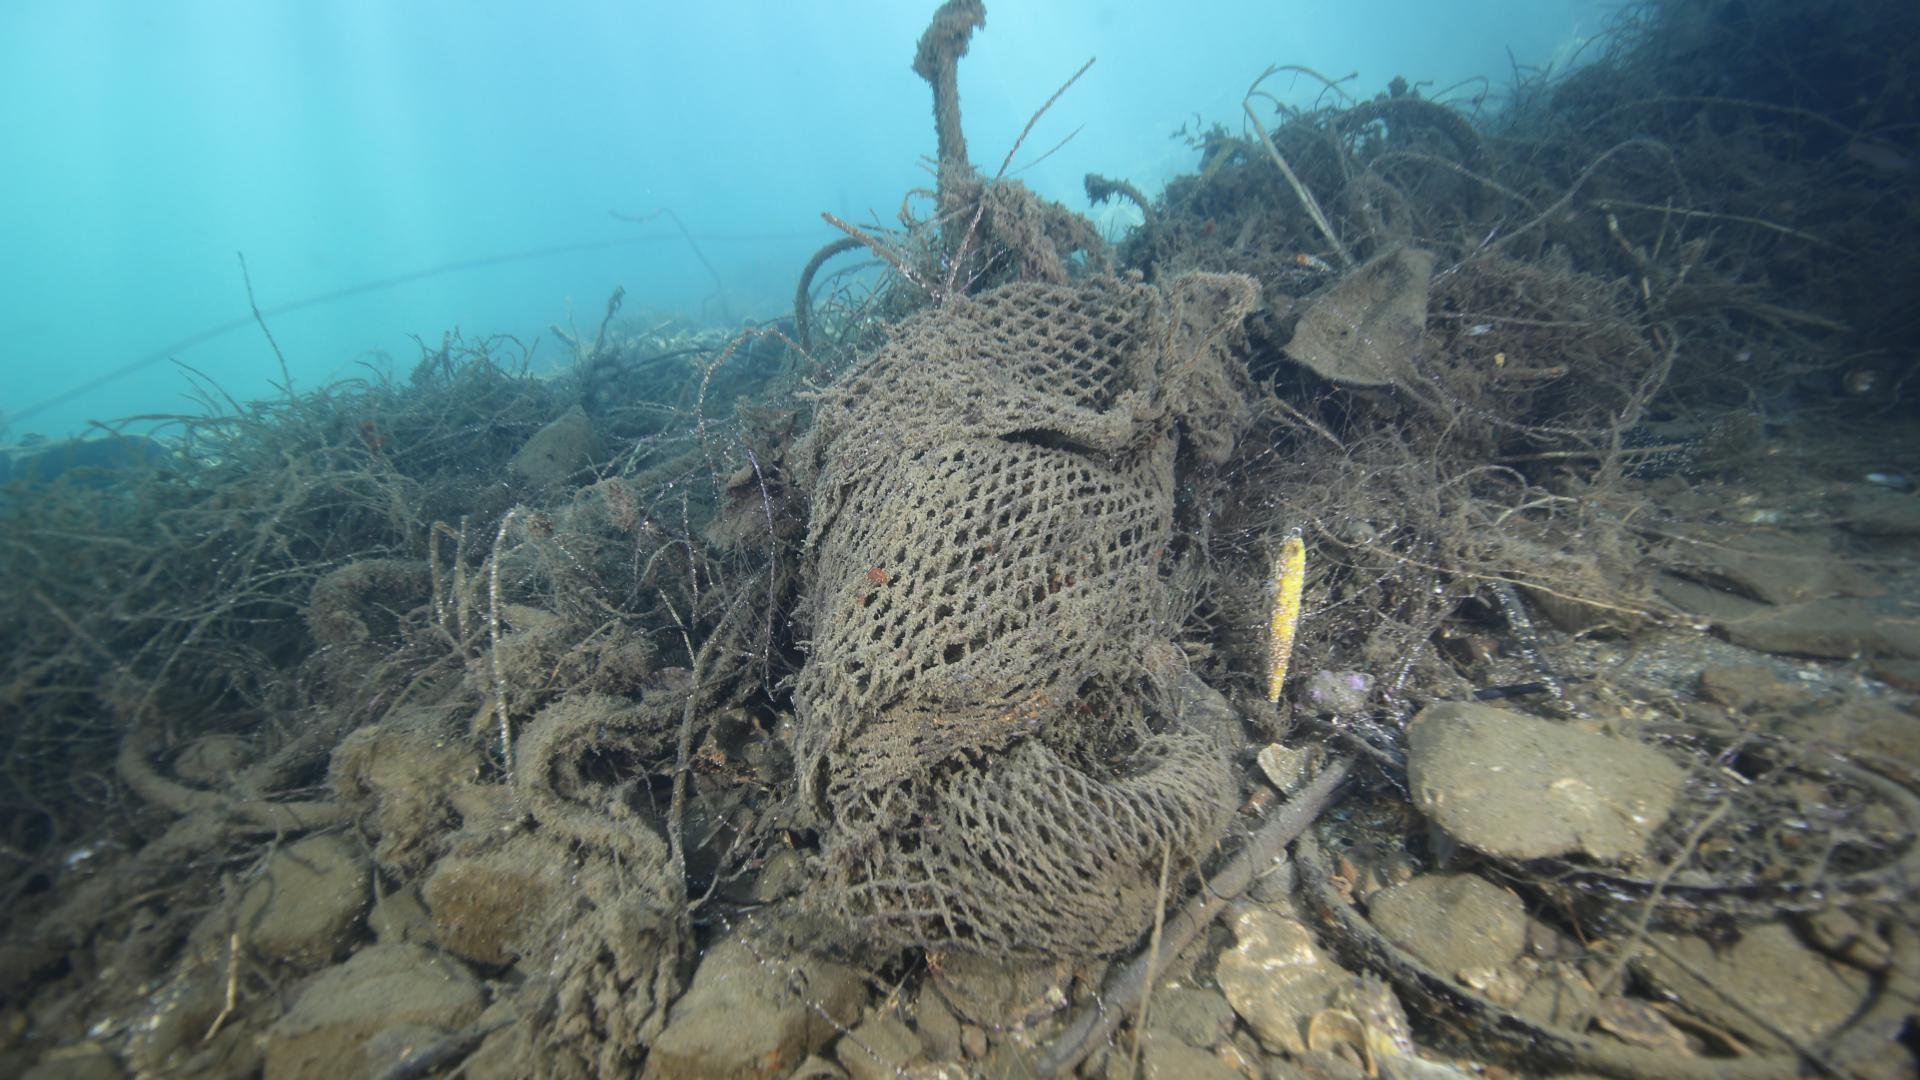fish net: (800, 277, 1218, 955)
